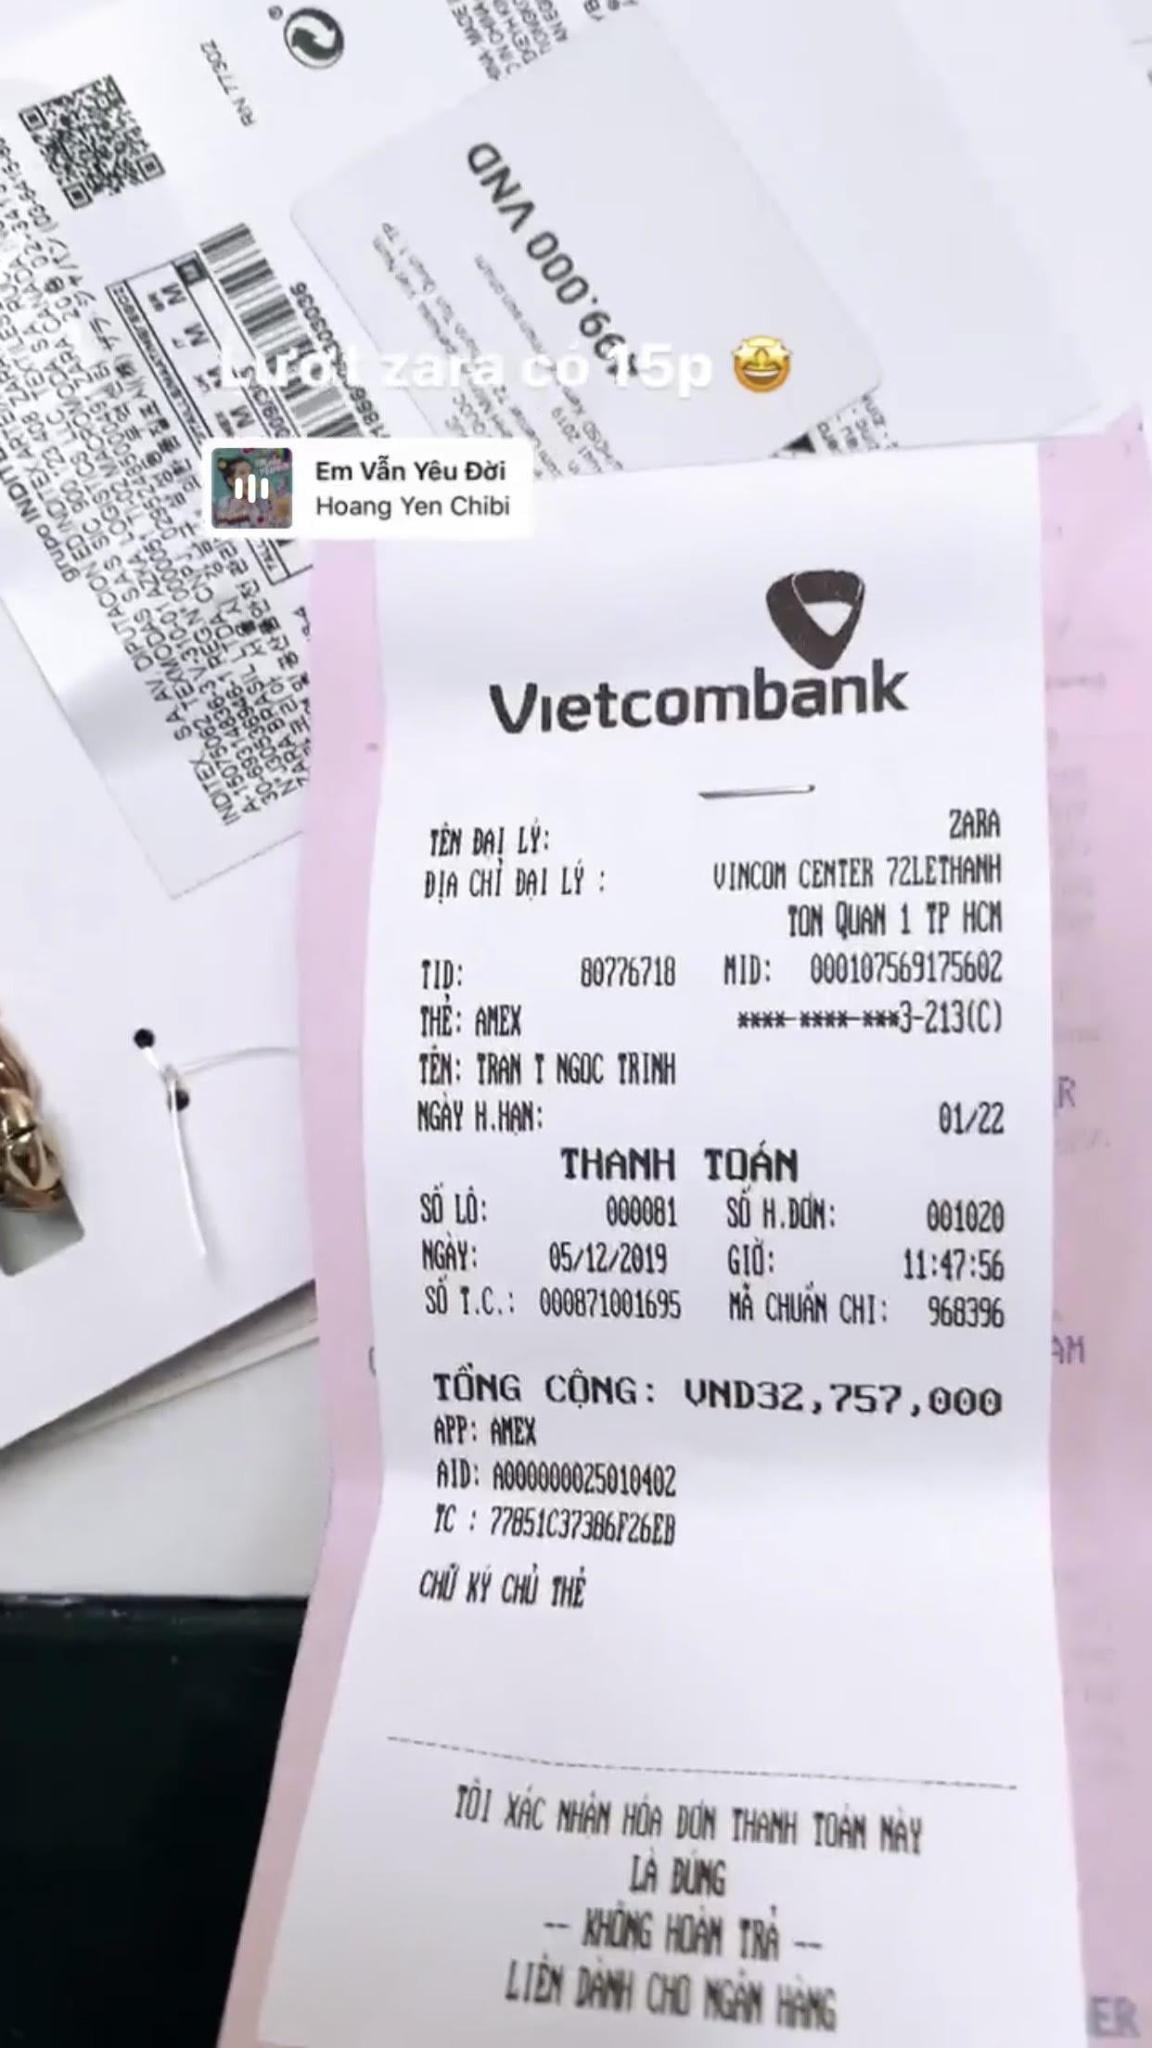receipt: (387, 502, 1031, 1582)
